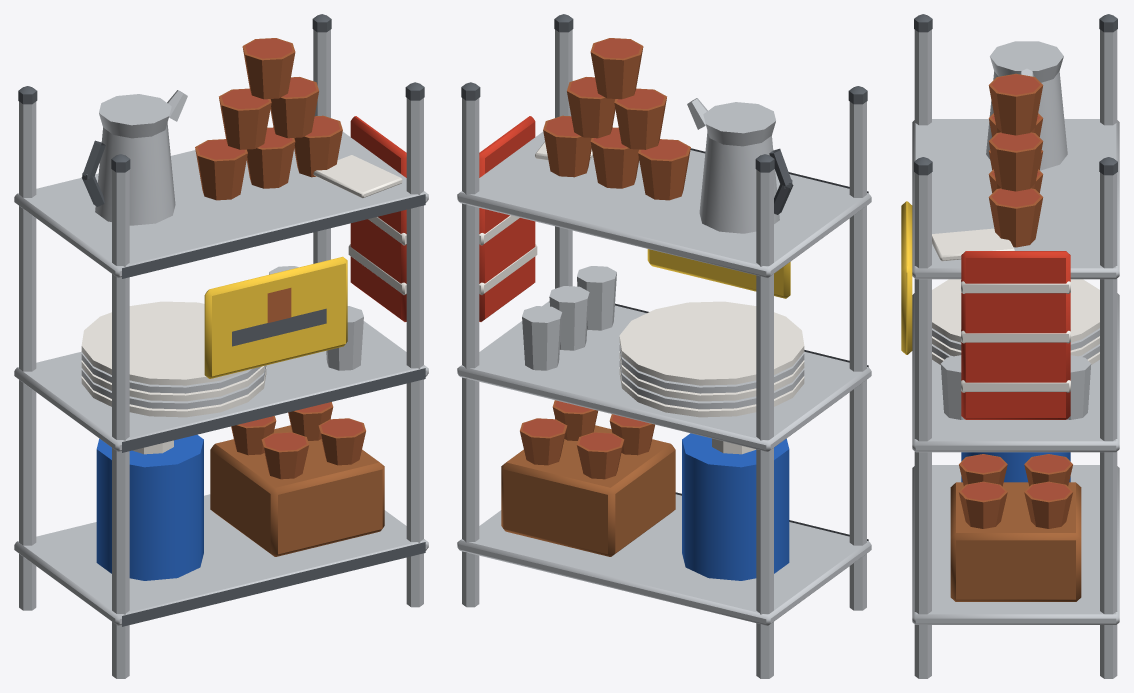
The model's file is tray_rack.glb.
3 views of the same model, side by side, from view 1: azimuth 30°, elevation 25°; view 2: azimuth 150°, elevation 25°; view 3: azimuth 270°, elevation 25° (orthographic).
Visible parts, largest first — view 1: tray_rack; view 2: tray_rack; view 3: tray_rack.
Part boxes in pixels (left/top/right/bottom): tray_rack: left=14, top=14, right=428, bottom=678; tray_rack: left=457, top=14, right=871, bottom=678; tray_rack: left=901, top=14, right=1119, bottom=678.
Bounding box in the file's own units: 0.676 × 1.1 × 0.402.
1 material, 1 textured.
